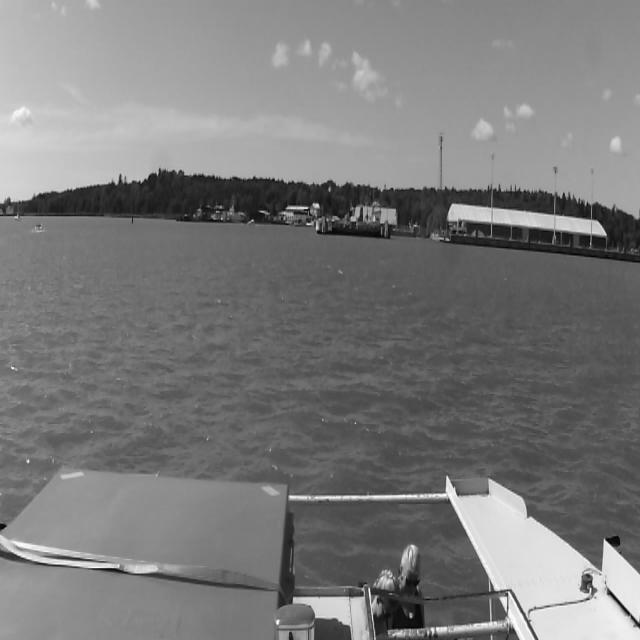buoy: (130, 208, 134, 223)
ship: (34, 224, 44, 234), (13, 212, 20, 222)
